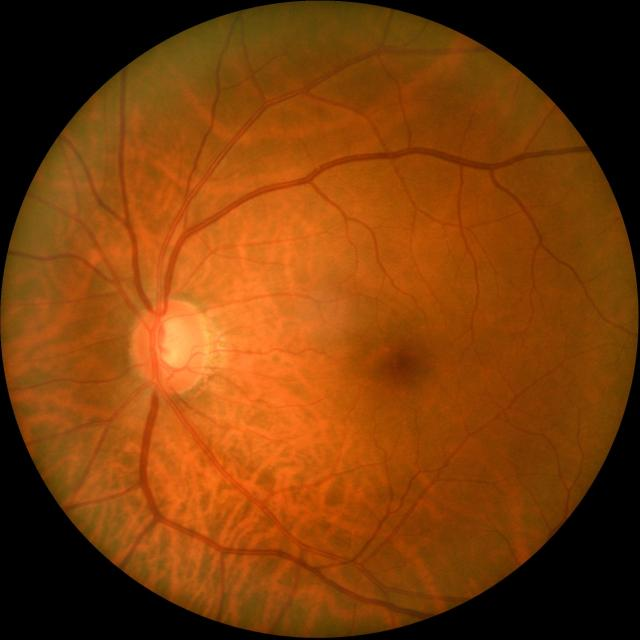OC: (154, 316, 194, 370)
OD: (129, 297, 209, 393)
